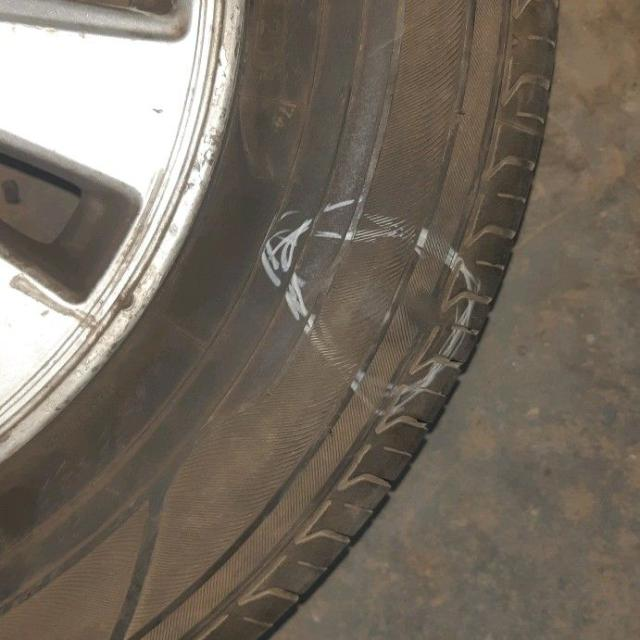Bulge: (312, 234, 444, 368)
